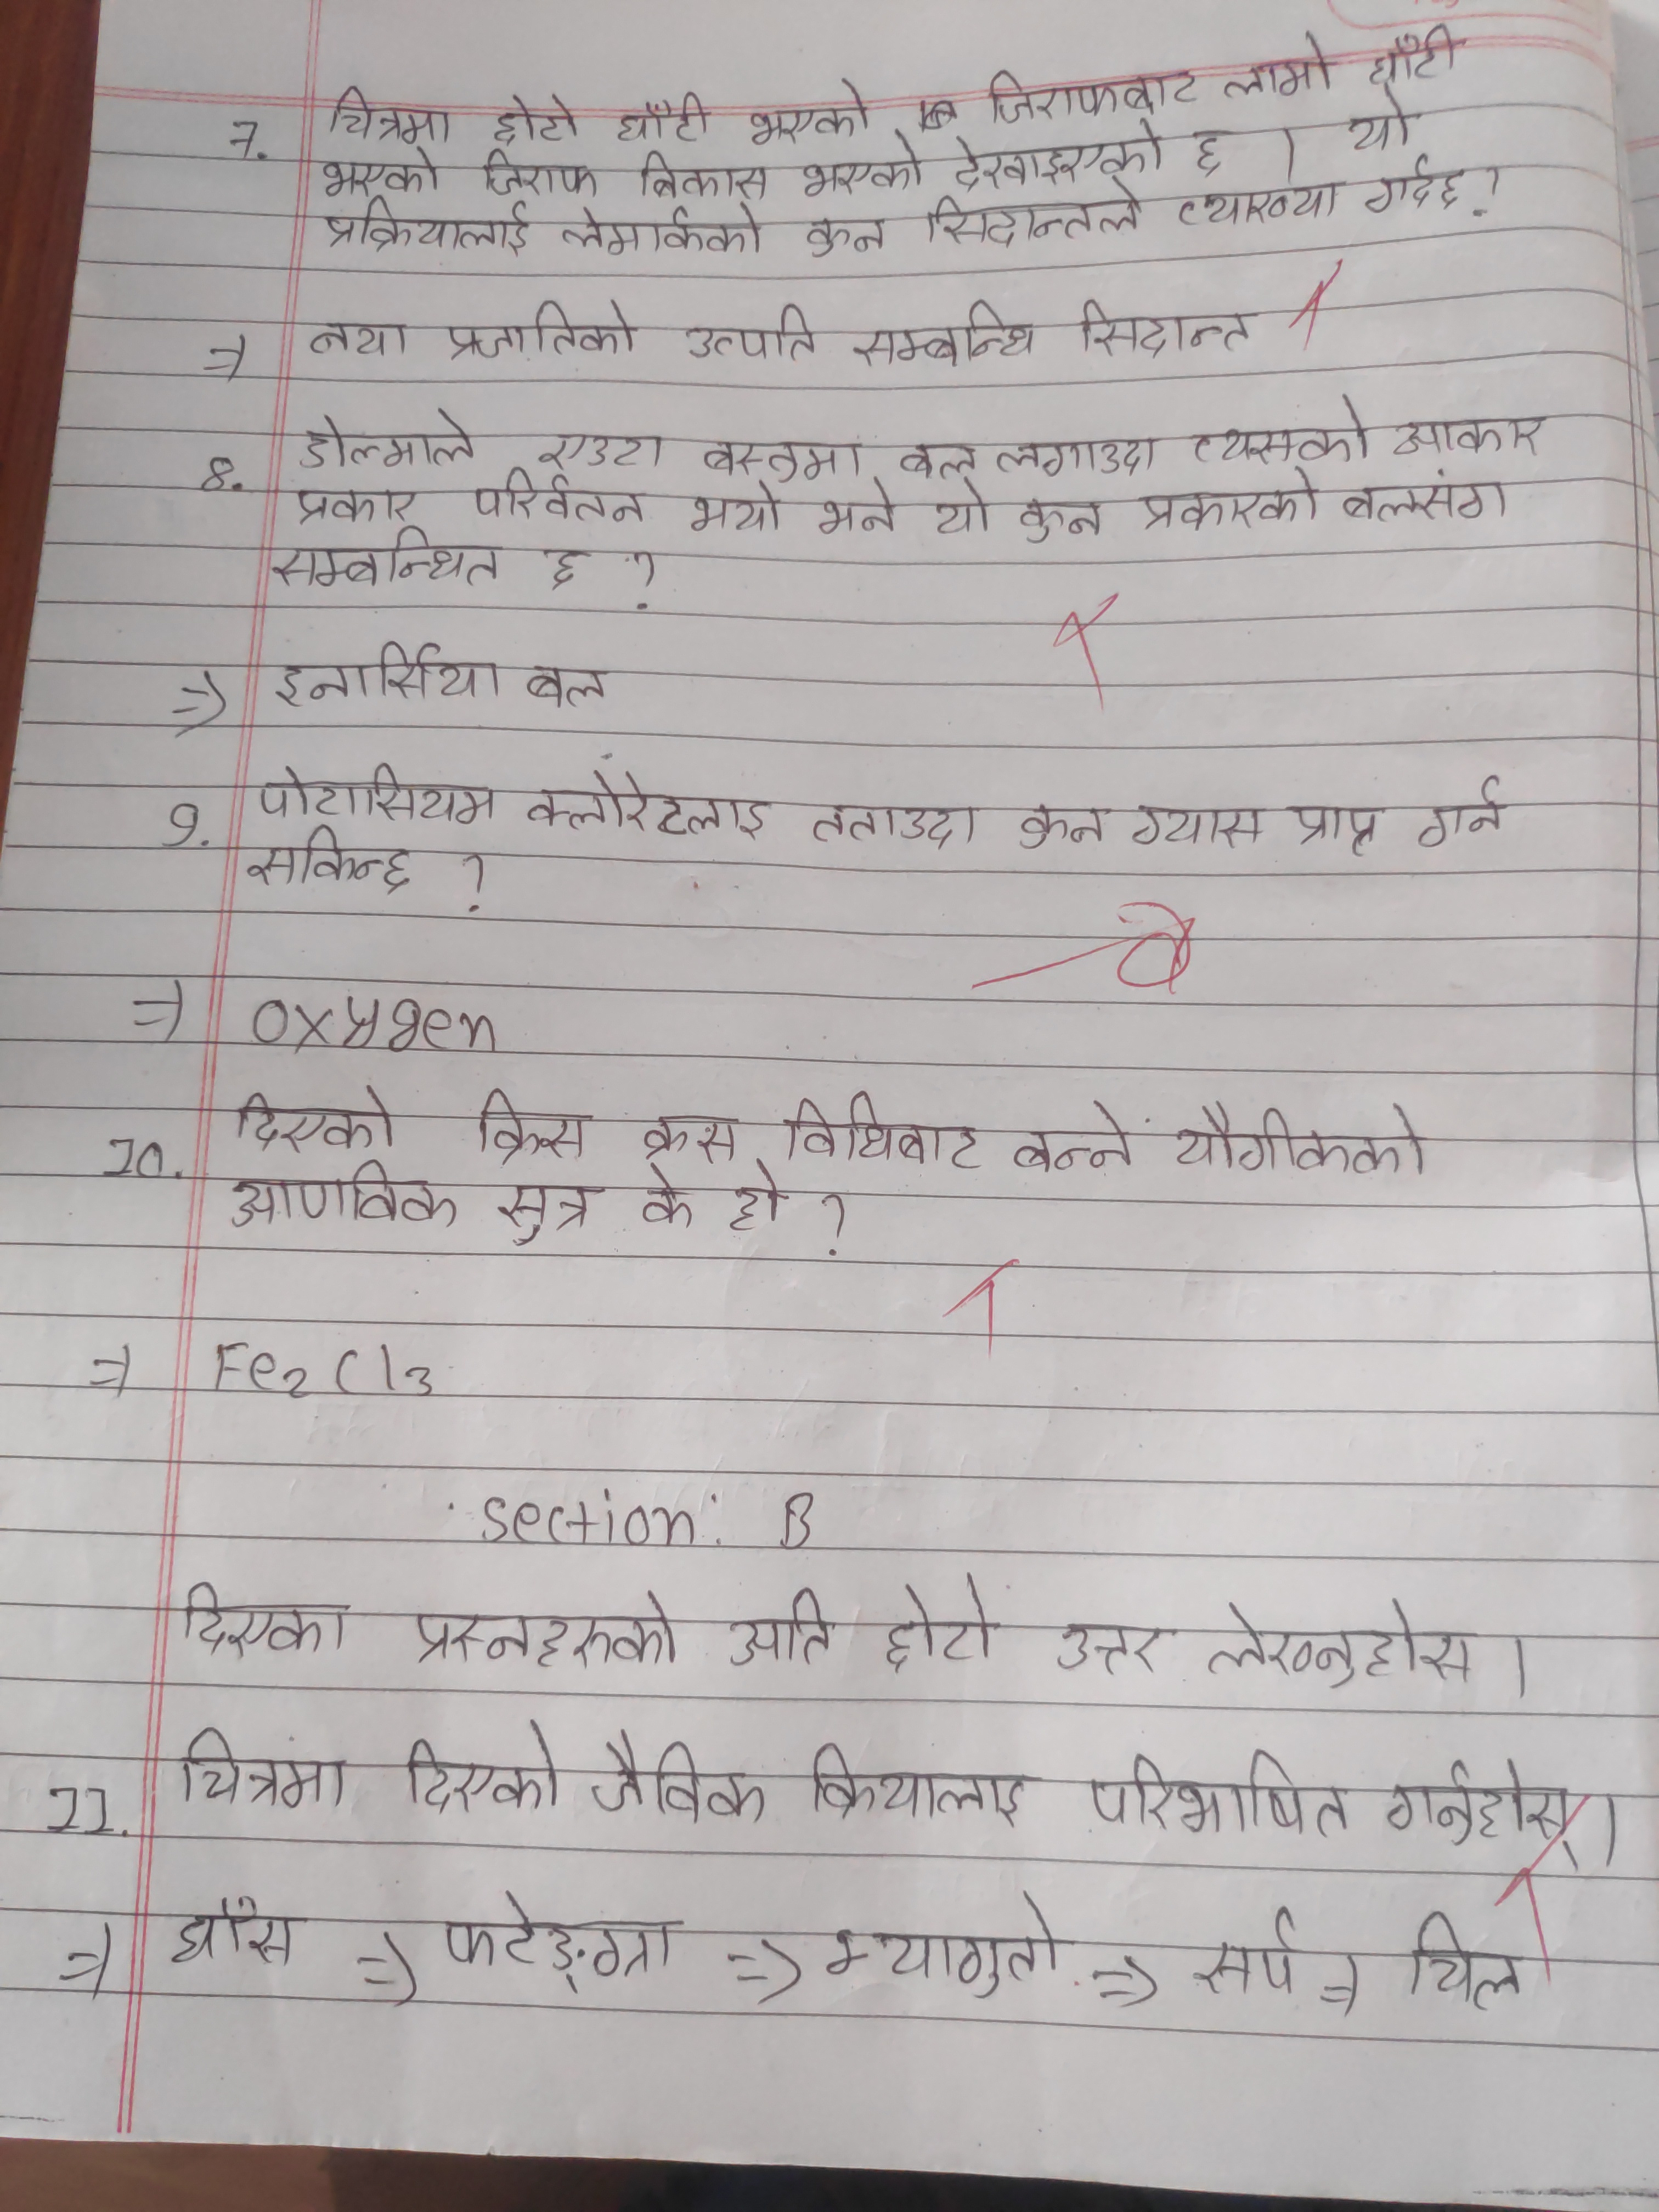text: (823, 1888, 1060, 2001), (439, 1888, 681, 1993), (1087, 1745, 1349, 1841), (1171, 1092, 1432, 1184), (1208, 1602, 1485, 1688), (1389, 1761, 1589, 1872), (408, 1592, 681, 1672), (805, 1743, 1030, 1829), (254, 756, 502, 831), (525, 768, 772, 843), (589, 1730, 772, 1827), (786, 1087, 990, 1170), (221, 1169, 460, 1238), (268, 526, 511, 594), (910, 181, 1150, 249), (272, 637, 511, 704), (173, 1730, 352, 1817), (404, 1724, 565, 1820), (985, 57, 1202, 125), (181, 1576, 361, 1658), (951, 129, 1171, 193), (1192, 390, 1375, 467), (443, 298, 638, 366), (234, 1082, 403, 1160), (558, 200, 774, 261), (326, 199, 535, 261), (852, 298, 1040, 368), (246, 824, 416, 900), (293, 406, 479, 474), (1073, 293, 1263, 359), (880, 1575, 1000, 1676), (469, 465, 650, 529), (805, 791, 983, 853), (1000, 1101, 1136, 1183), (1140, 470, 1319, 531), (1188, 1905, 1307, 1998), (1337, 467, 1513, 526), (1405, 1916, 1520, 2006), (476, 1089, 601, 1169), (167, 1897, 303, 1968), (1166, 181, 1351, 233), (721, 1585, 836, 1669), (744, 78, 875, 146), (685, 307, 830, 368), (993, 430, 1161, 481), (1223, 28, 1338, 101), (699, 435, 870, 484), (321, 87, 453, 148), (1387, 413, 1553, 462), (634, 145, 774, 202), (795, 138, 929, 197), (538, 421, 673, 477), (1131, 803, 1265, 857), (1053, 1615, 1171, 1676), (1368, 16, 1466, 89), (286, 477, 418, 529), (493, 1181, 598, 1245), (1359, 155, 1471, 214), (476, 148, 601, 200), (1293, 792, 1387, 860), (681, 477, 786, 538), (1420, 779, 1507, 848), (319, 152, 448, 199), (1012, 794, 1112, 855), (1338, 80, 1419, 153), (612, 91, 716, 146), (641, 1109, 739, 1169), (807, 479, 897, 542), (1012, 488, 1105, 549), (490, 91, 584, 148), (798, 204, 894, 260), (518, 658, 615, 712), (723, 1160, 788, 1240), (307, 319, 418, 364), (892, 434, 990, 482), (636, 1163, 701, 1235), (927, 481, 993, 545), (542, 538, 589, 594), (1187, 122, 1230, 176)
